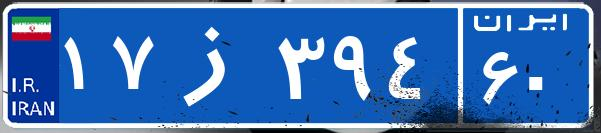0: (525, 38, 570, 115)
1: (57, 26, 110, 107)
3: (273, 28, 330, 110)
4: (385, 28, 445, 110)
6: (475, 38, 525, 113)
7: (110, 28, 158, 105)
9: (330, 28, 385, 110)
ز: (158, 15, 273, 115)
